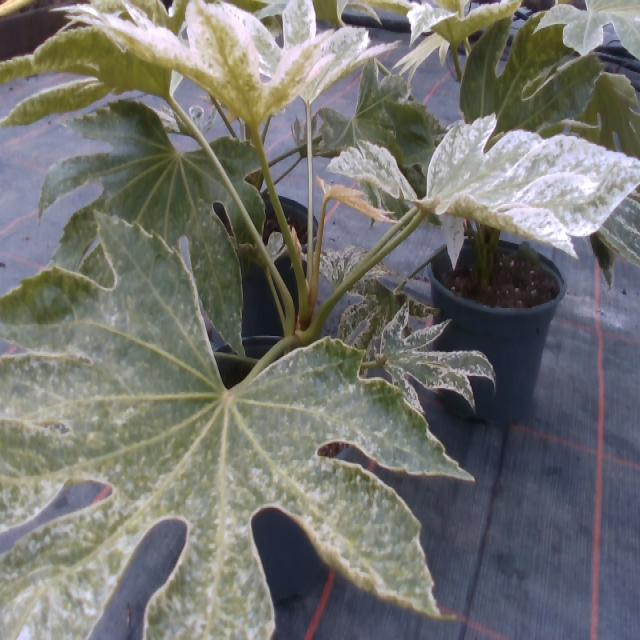Fatsia-japonica: (0, 203, 450, 640), (51, 96, 261, 360), (47, 0, 309, 153), (420, 127, 636, 266), (0, 0, 204, 133), (211, 2, 378, 110), (384, 292, 491, 422), (304, 82, 439, 180), (398, 0, 523, 68), (525, 0, 640, 69), (326, 128, 414, 212)
